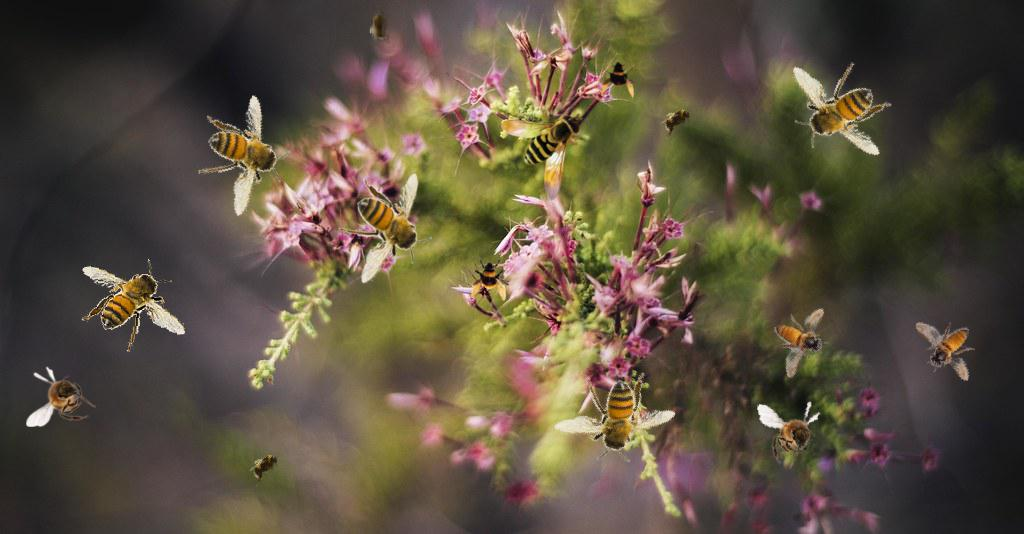Bee: (540, 347, 685, 487), (769, 43, 906, 171), (180, 89, 305, 225), (72, 251, 195, 359), (338, 173, 432, 284), (757, 295, 845, 380), (501, 113, 583, 201), (756, 392, 831, 474), (913, 307, 985, 392), (26, 366, 96, 427), (469, 257, 513, 301), (598, 56, 642, 100), (243, 445, 289, 487), (655, 100, 701, 140), (369, 6, 391, 46)
